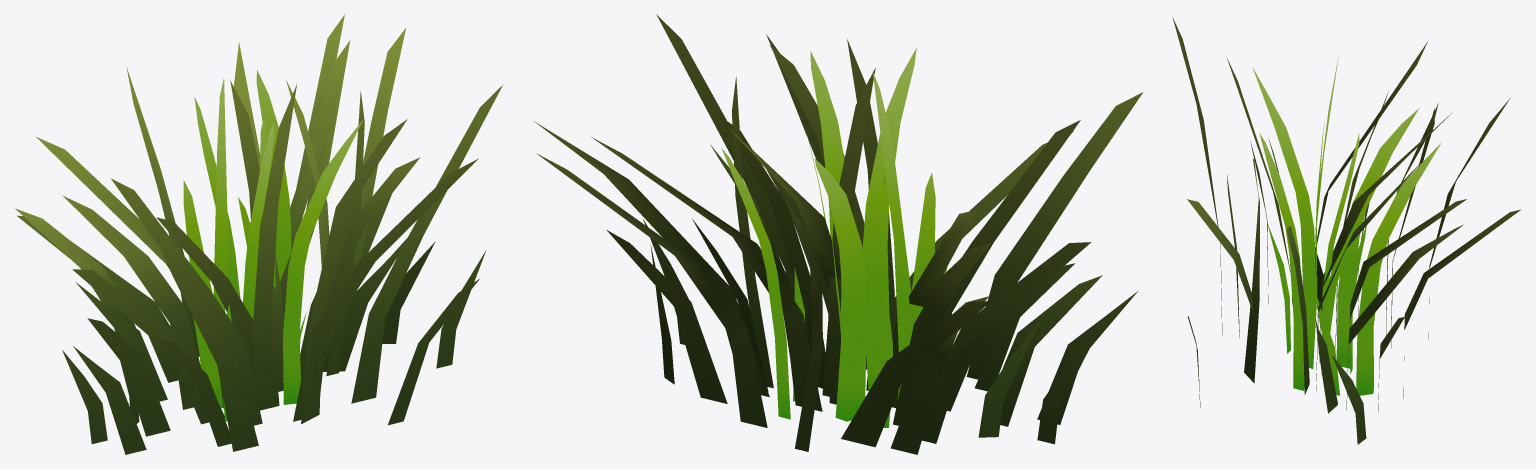
File: grass.glb
3 renders of one model, left to right at view 1: azimuth 30°, elevation 25°; view 2: azimuth 150°, elevation 25°; view 3: azimuth 270°, elevation 25°, orthographic. The views are drawn at different scales.
Parts seen in each view (by area): view 1: grass; view 2: grass; view 3: grass.
Part boxes in pixels (left/top/right/bottom): grass: left=15, top=14, right=502, bottom=454; grass: left=534, top=14, right=1143, bottom=454; grass: left=1172, top=17, right=1520, bottom=444.
Bounding box in the file's own units: 1.47 × 1.02 × 1.03.
2 materials, 2 textured.
